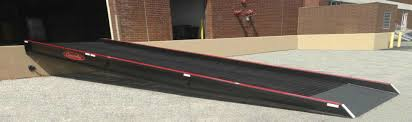Yard Ramp: (23, 38, 401, 120)
